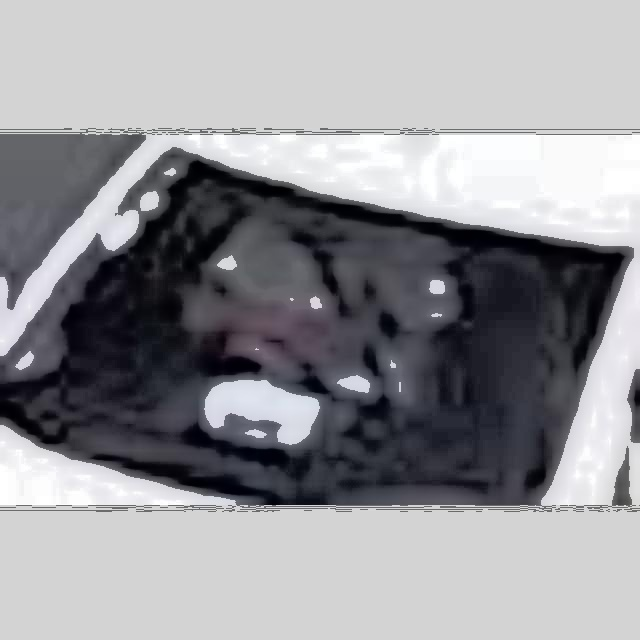pakai: (185, 228, 455, 404)
